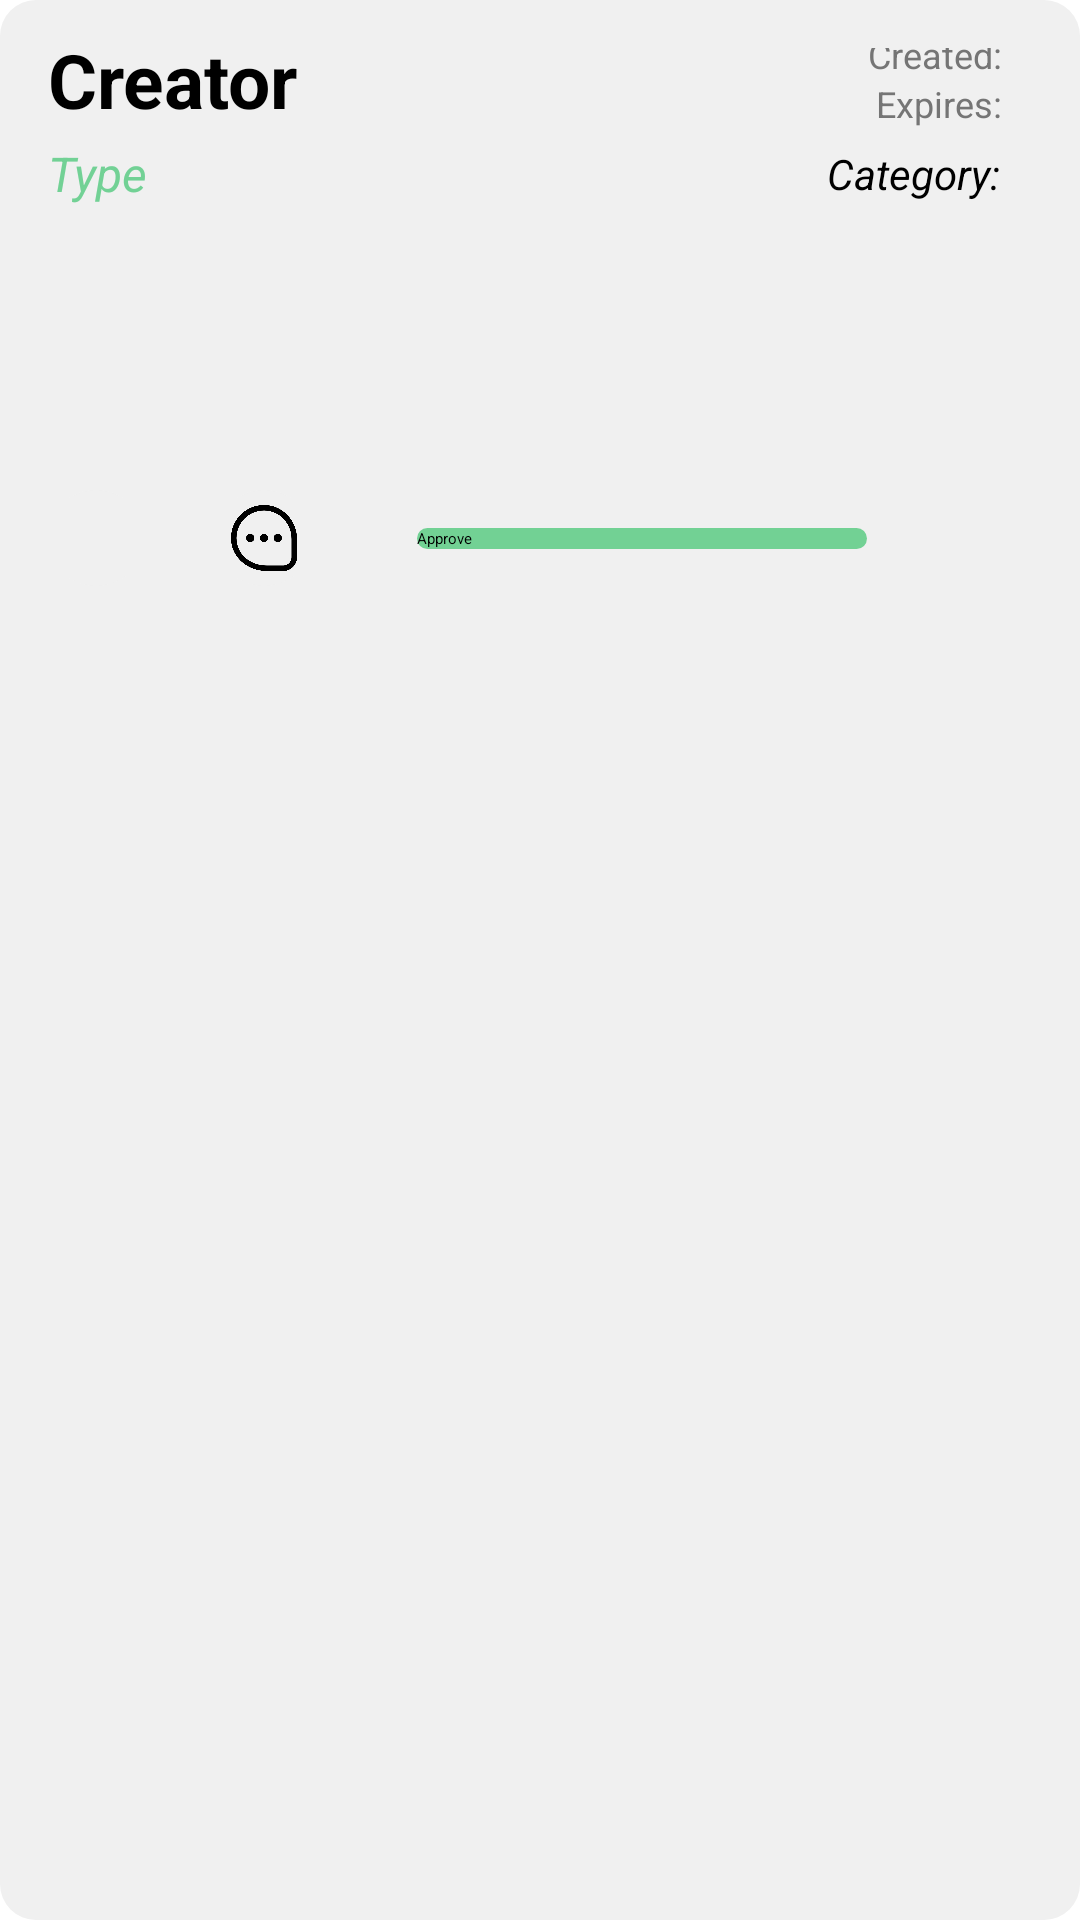

Where icons sit on this 1080 x 1920 app screen, as (x1, y1, x2, y2):
commentbutton: (231, 505, 297, 571)
